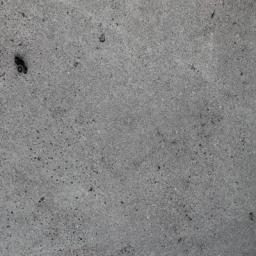FOD: (13, 54, 31, 79)
